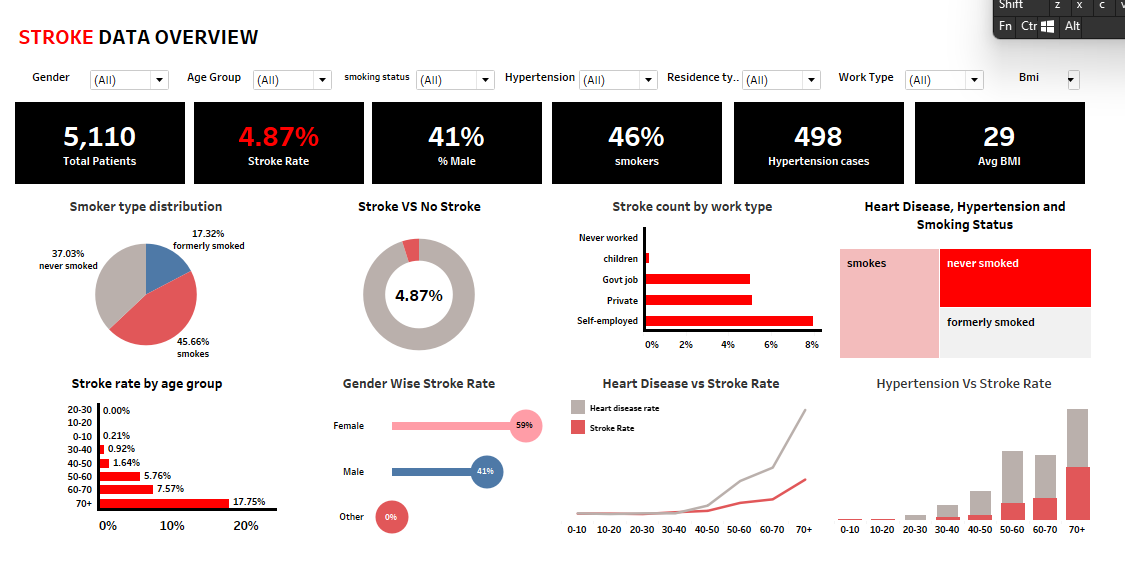

Layout of this report page (visuals, bound fields, positions):
{"tool":"tableau","page":{"name":"Dashboard 1","canvas":[1124,524],"ordinal":0},"visuals":[{"type":"text","box":[17,15,289,40]},{"type":"filter","title":"3","param":"[federated.0ww6nhl0iyfxia1af7ba21debt98].[none:gender:nk]","box":[16,66,157,28]},{"type":"filter","title":"3","param":"[federated.0ww6nhl0iyfxia1af7ba21debt98].[none:Calculation_685673074998296578:nk","box":[179,66,157,28]},{"type":"filter","title":"3","param":"[federated.0ww6nhl0iyfxia1af7ba21debt98].[none:Calculation_493425663759777792:nk","box":[342,66,157,28]},{"type":"filter","title":"3","param":"[federated.0ww6nhl0iyfxia1af7ba21debt98].[none:Calculation_685673075002269699:nk","box":[505,66,157,28]},{"type":"filter","title":"3","param":"[federated.0ww6nhl0iyfxia1af7ba21debt98].[none:Residence_type:nk]","box":[668,66,157,28]},{"type":"filter","title":"3","param":"[federated.0ww6nhl0iyfxia1af7ba21debt98].[none:work_type:nk]","box":[831,66,157,28]},{"type":"filter","title":"3","param":"[federated.0ww6nhl0iyfxia1af7ba21debt98].[none:bmi:ok]","box":[994,66,90,28]},{"type":"worksheet","title":"0.1","mark":"Automatic","box":[16,101,170,82]},{"type":"worksheet","title":"0","mark":"Automatic","box":[195,101,170,82]},{"type":"worksheet","title":"0.2","mark":"Automatic","box":[373,101,170,82]},{"type":"worksheet","title":"0.3","mark":"Automatic","box":[553,101,170,82]},{"type":"worksheet","title":"0.4","mark":"Automatic","box":[735,101,170,82]},{"type":"worksheet","title":"0.5","mark":"Automatic","box":[916,101,170,82]},{"type":"worksheet","title":"1","mark":"Pie","box":[17,192,260,170]},{"type":"worksheet","title":"2","mark":"Pie","rows":["Calculation_685673074981179393","Calculation_685673074981179393"],"box":[290,192,260,170]},{"type":"worksheet","title":"3","mark":"Automatic","rows":["work_type"],"cols":["Calculation_716635312095993856"],"box":[563,192,260,170]},{"type":"worksheet","title":"4","mark":"Automatic","box":[836,192,260,170]},{"type":"legend","title":"7","param":"[federated.0ww6nhl0iyfxia1af7ba21debt98].[:Measure Names]","box":[569,396,105,41]}]}

Visuals, with their boxes on the page's 1124x524 design canvas (x1, y1, x2, y2). These are canvas units, not pixel positions in the 1125x566 screenshot, which may show the page scaled, cropped or inside an application window:
text: Rect(17, 15, 306, 55)
"3" filter: Rect(16, 66, 173, 94)
"3" filter: Rect(179, 66, 336, 94)
"3" filter: Rect(342, 66, 499, 94)
"3" filter: Rect(505, 66, 662, 94)
"3" filter: Rect(668, 66, 825, 94)
"3" filter: Rect(831, 66, 988, 94)
"3" filter: Rect(994, 66, 1084, 94)
"0.1" worksheet: Rect(16, 101, 186, 183)
"0" worksheet: Rect(195, 101, 365, 183)
"0.2" worksheet: Rect(373, 101, 543, 183)
"0.3" worksheet: Rect(553, 101, 723, 183)
"0.4" worksheet: Rect(735, 101, 905, 183)
"0.5" worksheet: Rect(916, 101, 1086, 183)
"1" worksheet (Pie marks): Rect(17, 192, 277, 362)
"2" worksheet (Pie marks): Rect(290, 192, 550, 362)
"3" worksheet: Rect(563, 192, 823, 362)
"4" worksheet: Rect(836, 192, 1096, 362)
"7" legend: Rect(569, 396, 674, 437)
